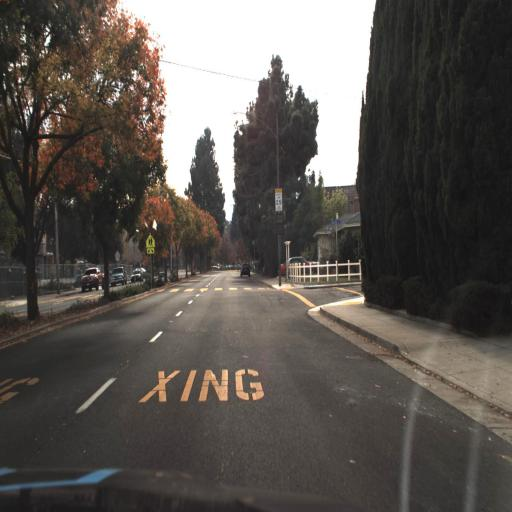car: (81, 265, 104, 294), (237, 258, 255, 281), (108, 265, 125, 287), (128, 266, 146, 283)
